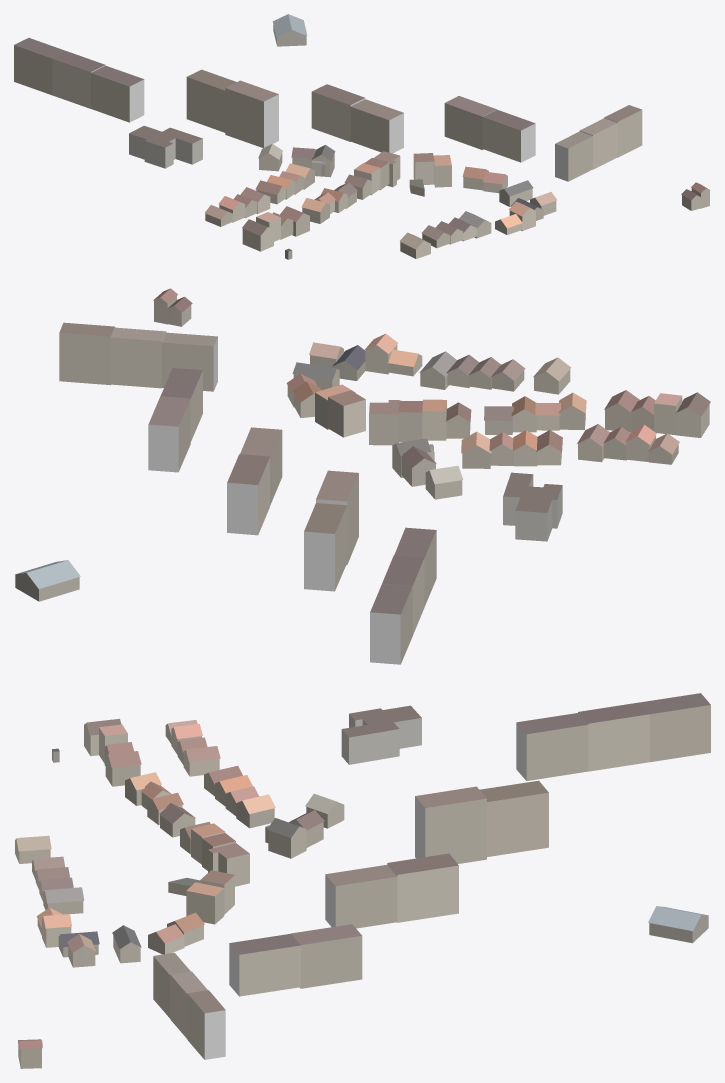
The picture shows the model from 3 angles, top to bottom: view 1: azimuth 30°, elevation 25°; view 2: azimuth 150°, elevation 25°; view 3: azimuth 270°, elevation 25°; orthographic projection. The views are drawn at different scales.
Parts seen in each view (by area): view 1: tuile; view 2: tuile; view 3: tuile.
Part boxes in pixels (bbox=[...]): tuile: bbox=[14, 14, 709, 259]; tuile: bbox=[15, 288, 710, 664]; tuile: bbox=[15, 693, 710, 1068].
Size of the model in its own units: 252 by 41.37 by 263.
